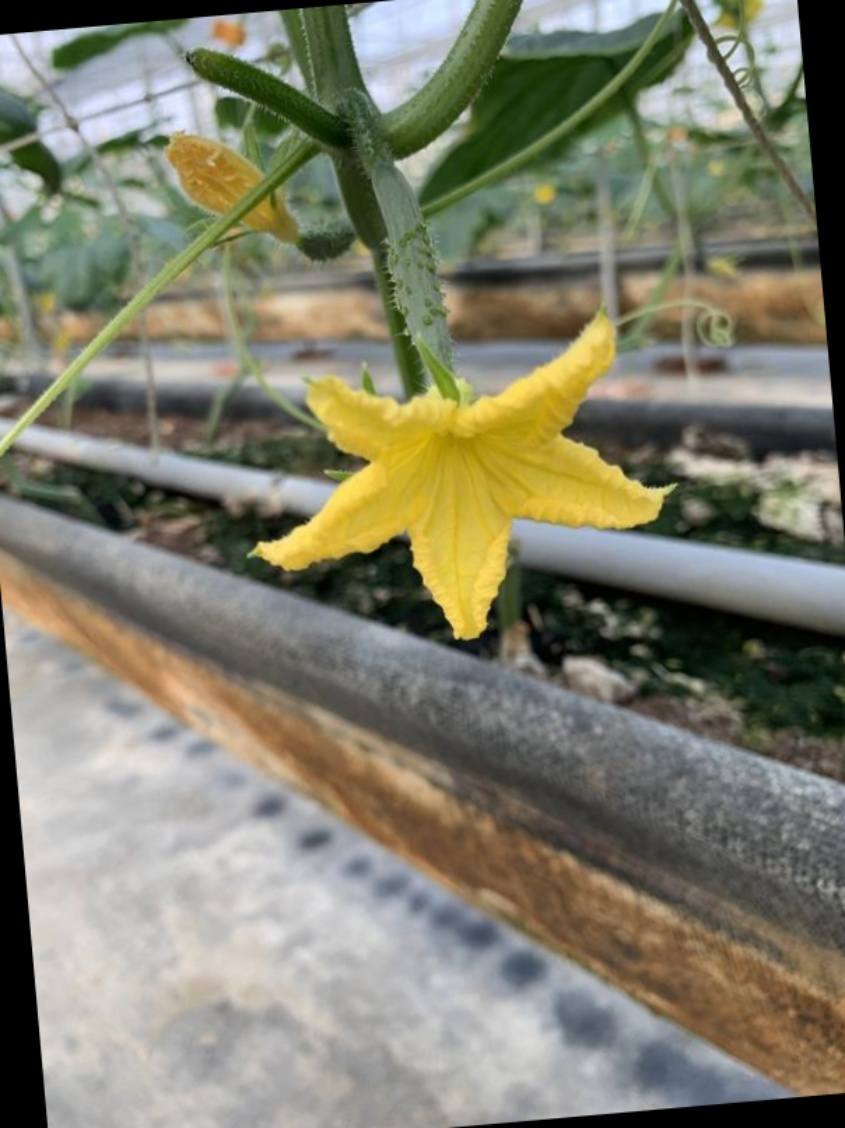flowering: (212, 133, 680, 645)
